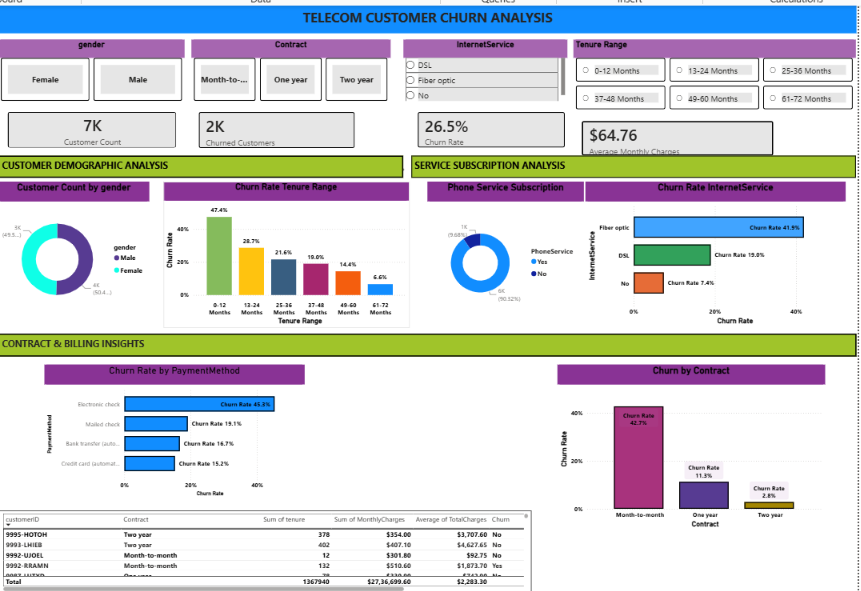

The dashboard page shown, as its layout file describes it:
{"tool":"powerbi","page":{"name":"Overall Dashboard","canvas":[1734,1189],"ordinal":4},"visuals":[{"type":"textbox","box":[0,0,1733.1,56.1],"z":0},{"type":"advancedSlicerVisual","fields":{"Values":["Telcom-Customer-Churn.gender"]},"box":[0,69.2,376.2,129.1],"z":1},{"type":"advancedSlicerVisual","fields":{"Values":["Telcom-Customer-Churn.Contract"]},"box":[389.3,69.2,402.4,129.1],"z":2},{"type":"listSlicer","fields":{"Values":["Telcom-Customer-Churn.InternetService"]},"box":[817.8,68.7,331.2,129.2],"z":3},{"type":"advancedSlicerVisual","fields":{"Values":["Telcom-Customer-Churn.Tenure Range"]},"box":[1161.8,68.8,570.7,146.9],"z":4},{"type":"cardVisual","fields":{"Data":["Telcom-Customer-Churn.Customer Count"]},"box":[1.9,197,374.3,106.7],"z":5},{"type":"cardVisual","fields":{"Data":["Telcom-Customer-Churn.Churned Customers"]},"box":[388.5,197,349.9,107],"z":6},{"type":"cardVisual","fields":{"Data":["Telcom-Customer-Churn.Churn Rate"]},"box":[830.9,198.9,331.3,106.7],"z":7},{"type":"cardVisual","fields":{"Data":["Telcom-Customer-Churn.Average Monthly Charges"]},"box":[1161.8,215.6,421.1,104.8],"z":8},{"type":"clusteredColumnChart","title":"Churn by Contract","fields":{"Category":["Telcom-Customer-Churn.Contract"],"Y":["Telcom-Customer-Churn.Churn Rate"]},"box":[1128.8,725,540.9,335],"z":9},{"type":"clusteredBarChart","title":"Churn Rate  InternetService","fields":{"Category":["Telcom-Customer-Churn.InternetService"],"Y":["Telcom-Customer-Churn.Churn Rate"]},"box":[1185.4,355.4,525.9,293.8],"z":10},{"type":"clusteredColumnChart","title":"Churn Rate Tenure Range","fields":{"Category":["Telcom-Customer-Churn.Tenure Range"],"Y":["Telcom-Customer-Churn.Churn Rate"]},"box":[333.2,355.4,496,293.8],"z":11},{"type":"clusteredBarChart","fields":{"Category":["Telcom-Customer-Churn.PaymentMethod"],"Y":["Telcom-Customer-Churn.Churn Rate"]},"box":[92.9,725,525.9,271.4],"z":12},{"type":"tableEx","fields":{"Values":["Telcom-Customer-Churn.customerID","Telcom-Customer-Churn.Contract","Sum(Telcom-Customer-Churn.tenure)","Sum(Telcom-Customer-Churn.MonthlyCharges)","Avg(Telcom-Customer-Churn.TotalCharges)","Telcom-Customer-Churn.Churn"]},"box":[2,1019.8,1074.5,169.2],"z":13},{"type":"donutChart","fields":{"Category":["Telcom-Customer-Churn.gender"],"Y":["Telcom-Customer-Churn.Customer Count"]},"box":[0,355.1,305.1,278.9],"z":14},{"type":"donutChart","title":"Phone Service Subscription","fields":{"Category":["Telcom-Customer-Churn.PhoneService"],"Y":["Telcom-Customer-Churn.Customer Count"]},"box":[866.3,355.4,316,293.7],"z":15},{"type":"textbox","box":[0,303,817.9,44.6],"z":16},{"type":"textbox","box":[0,662.4,1732.6,46.4],"z":17},{"type":"textbox","box":[834.7,303,897.9,44.6],"z":18}]}

Visuals, with their boxes on the page's 1734x1189 design canvas (x1, y1, x2, y2). These are canvas units, not pixel positions in the 861x591 screenshot, which may show the page scaled, cropped or inside an application window:
textbox: BBox(0, 0, 1733, 56)
advancedSlicerVisual - Telcom-Customer-Churn.gender: BBox(0, 69, 376, 198)
advancedSlicerVisual - Telcom-Customer-Churn.Contract: BBox(389, 69, 792, 198)
listSlicer - Telcom-Customer-Churn.InternetService: BBox(818, 69, 1149, 198)
advancedSlicerVisual - Telcom-Customer-Churn.Tenure Range: BBox(1162, 69, 1732, 216)
cardVisual - Telcom-Customer-Churn.Customer Count: BBox(2, 197, 376, 304)
cardVisual - Telcom-Customer-Churn.Churned Customers: BBox(388, 197, 738, 304)
cardVisual - Telcom-Customer-Churn.Churn Rate: BBox(831, 199, 1162, 306)
cardVisual - Telcom-Customer-Churn.Average Monthly Charges: BBox(1162, 216, 1583, 320)
"Churn by Contract" clusteredColumnChart: BBox(1129, 725, 1670, 1060)
"Churn Rate  InternetService" clusteredBarChart: BBox(1185, 355, 1711, 649)
"Churn Rate Tenure Range" clusteredColumnChart: BBox(333, 355, 829, 649)
clusteredBarChart - Telcom-Customer-Churn.PaymentMethod x Telcom-Customer-Churn.Churn Rate: BBox(93, 725, 619, 996)
tableEx - Telcom-Customer-Churn.customerID x Telcom-Customer-Churn.Contract: BBox(2, 1020, 1076, 1189)
donutChart - Telcom-Customer-Churn.gender x Telcom-Customer-Churn.Customer Count: BBox(0, 355, 305, 634)
"Phone Service Subscription" donutChart: BBox(866, 355, 1182, 649)
textbox: BBox(0, 303, 818, 348)
textbox: BBox(0, 662, 1733, 709)
textbox: BBox(835, 303, 1733, 348)
